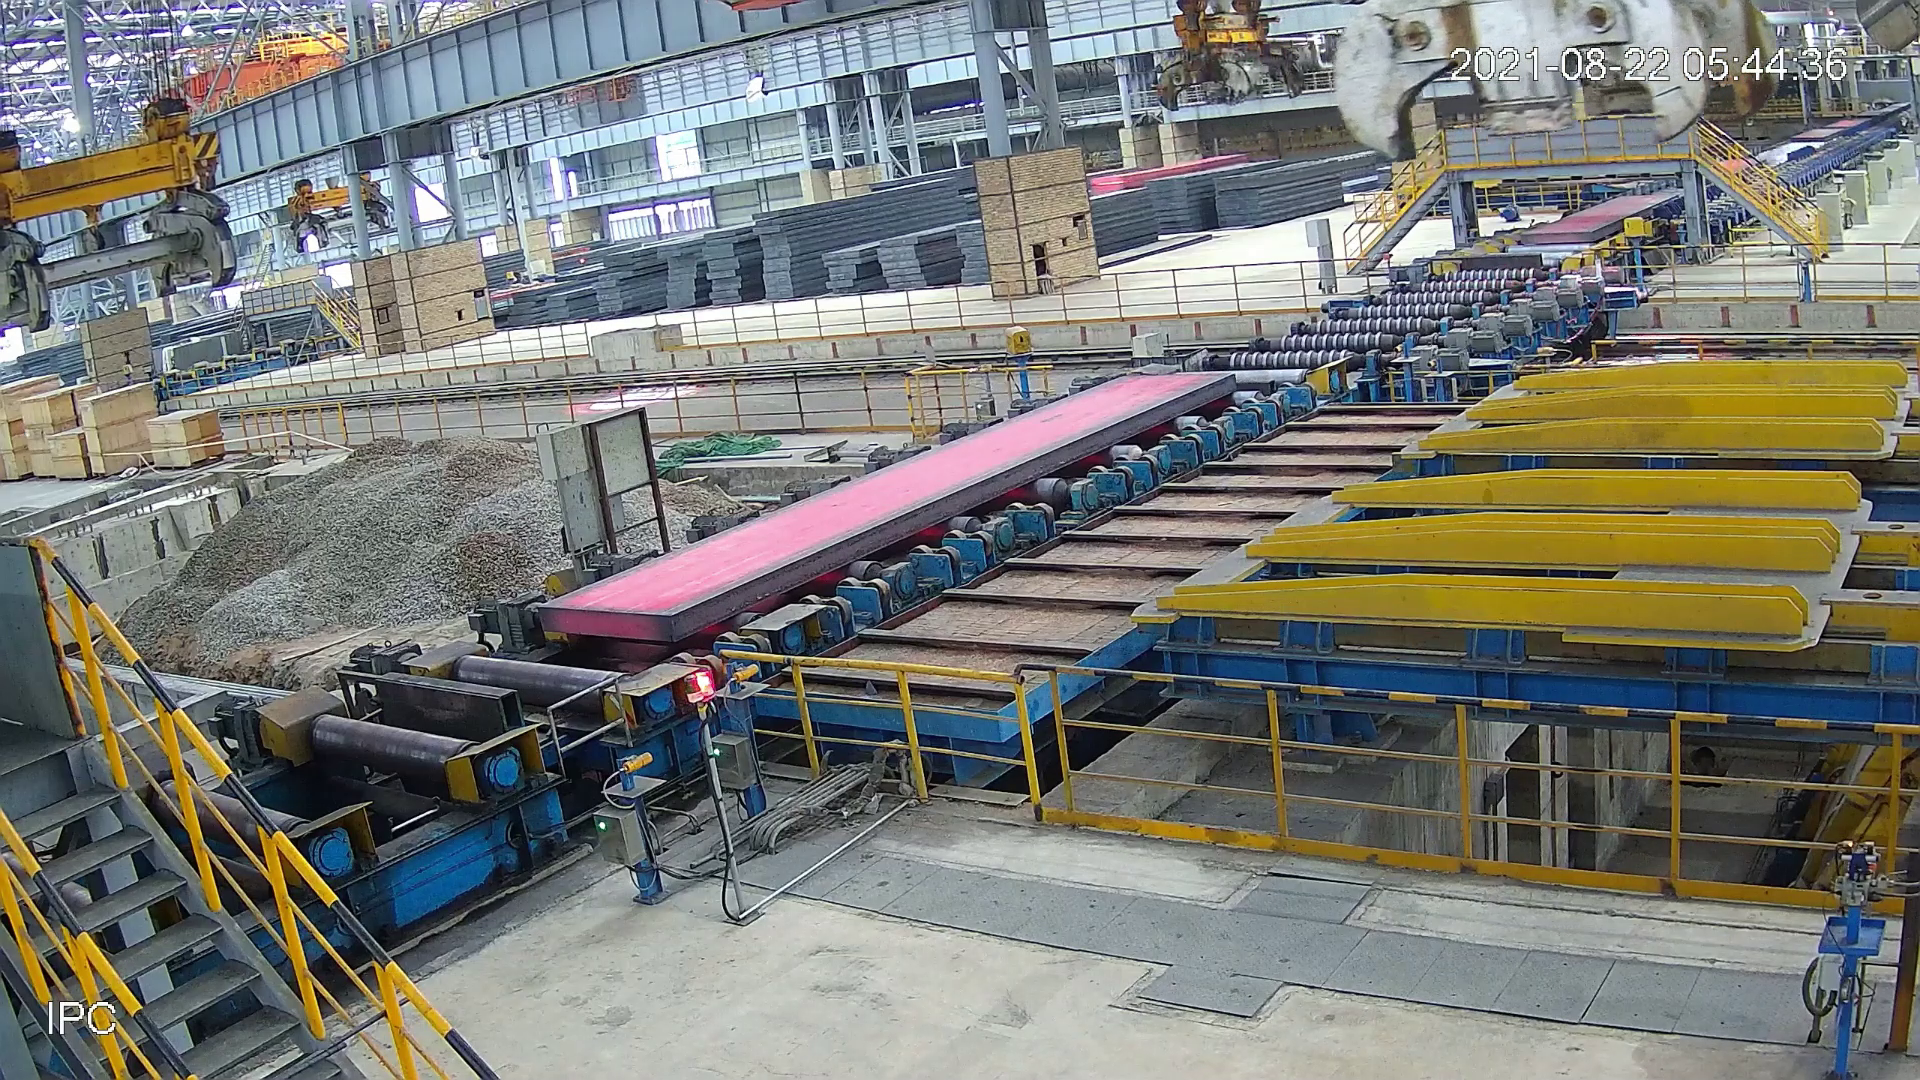crane: (1139, 3, 1309, 117)
slab: (530, 367, 1238, 649), (1513, 190, 1680, 249)
